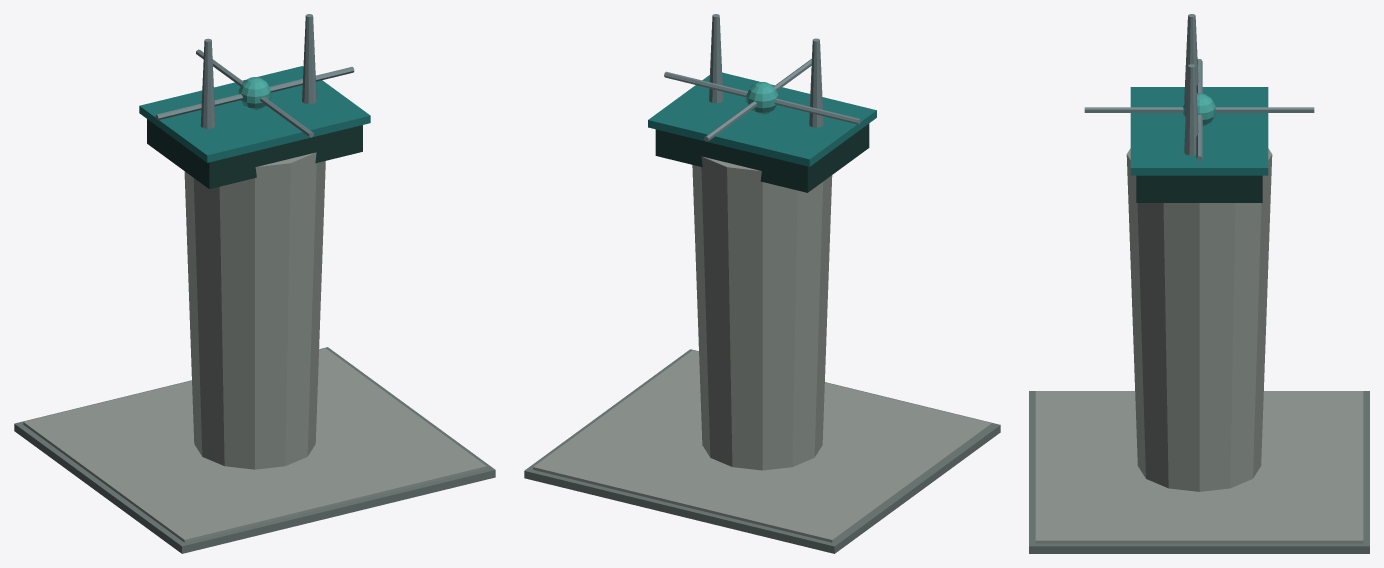
The model's file is defense_tower_lv2.glb.
3 renders of one model, left to right at view 1: azimuth 30°, elevation 25°; view 2: azimuth 150°, elevation 25°; view 3: azimuth 270°, elevation 25°, orthographic. The views are drawn at different scales.
Parts seen in each view (by area): view 1: rough, metallic; view 2: rough, metallic; view 3: rough, metallic.
Part boxes in pixels (x1,y1,x2,y2): rough: [14, 66, 495, 553]; metallic: [155, 14, 354, 137]; rough: [524, 72, 1000, 553]; metallic: [664, 14, 860, 141]; rough: [1029, 87, 1369, 553]; metallic: [1084, 14, 1314, 160].
Size of the model in its own units: 9.6 by 12.55 by 8.9.
